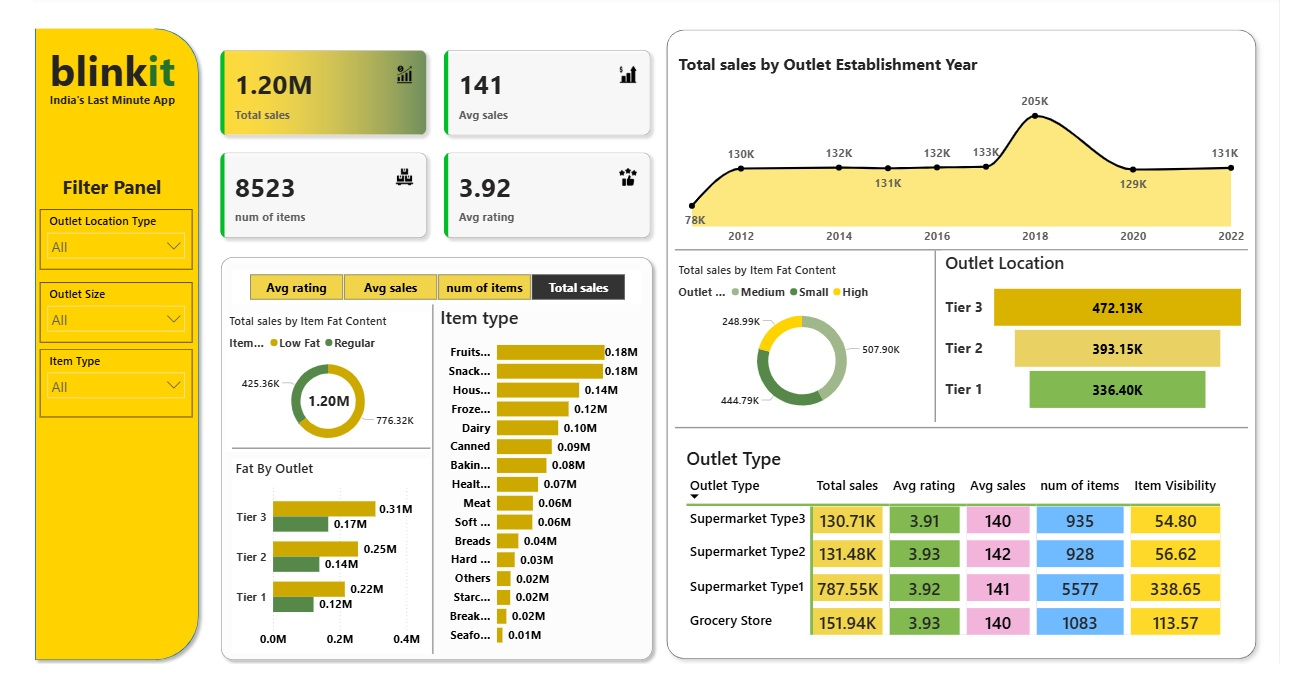

The page's visual inventory and layout, read from the dashboard file:
{"tool":"powerbi","page":{"name":"Page 1","canvas":[1800,950],"ordinal":0},"visuals":[{"type":"shape","box":[33.7,38.1,249.1,911],"z":0},{"type":"textbox","box":[58.3,60.6,199.7,98.7],"z":1000},{"type":"textbox","box":[58.3,132.4,262.5,51.6],"z":2000},{"type":"actionButton","box":[0,0,100,40],"z":3000},{"type":"cardVisual","fields":{"Data":["BlinkIT Grocery Data.Total sales","BlinkIT Grocery Data.Avg sales","BlinkIT Grocery Data.num of items","BlinkIT Grocery Data.Avg rating"]},"box":[287.2,60.6,644,300.7],"z":4000},{"type":"shape","box":[296.2,361.3,628.3,587.9],"z":5000},{"type":"donutChart","fields":{"Category":["BlinkIT Grocery Data.Item Fat Content"],"Y":["Metric Selector.Selected Metric Value"]},"box":[311.9,448.8,289.4,197.5],"z":6000},{"type":"slicer","fields":{"Values":["Metric Selector.Metric"]},"box":[320.9,388.2,578.9,49.4],"z":7000},{"type":"card","fields":{"Values":["Metric Selector.Selected Metric Value"]},"box":[415.1,554.2,85.3,42.6],"z":8000},{"type":"clusteredBarChart","title":"Fat By Outlet","fields":{"Y":["Metric Selector.Selected Metric Value"],"Category":["BlinkIT Grocery Data.Outlet Location Type"],"Series":["BlinkIT Grocery Data.Item Fat Content"]},"box":[320.9,655.2,280.5,276],"z":9000},{"type":"shape","box":[320.9,626,280.5,29.2],"z":10000},{"type":"shape","box":[583.4,437.5,42.6,493.6],"z":11000},{"type":"barChart","title":"Item type","fields":{"Category":["BlinkIT Grocery Data.Item Type"],"Y":["Metric Selector.Selected Metric Value"]},"box":[610.3,437.5,289.4,493.6],"z":12000},{"type":"shape","box":[924.4,38.1,854.9,911],"z":13000},{"type":"lineChart","fields":{"Y":["BlinkIT Grocery Data.Total sales"],"Category":["BlinkIT Grocery Data.Outlet Establishment Year"]},"box":[946.9,80.8,810,280.5],"z":14000},{"type":"shape","box":[946.9,345.5,810,29.2],"z":15000},{"type":"donutChart","fields":{"Category":["BlinkIT Grocery Data.Outlet Size"],"Y":["BlinkIT Grocery Data.Total sales"]},"box":[946.9,377,359,226.6],"z":16000},{"type":"shape","box":[1305.9,361.3,18,242.3],"z":17000},{"type":"funnel","title":"Outlet Location ","fields":{"Y":["Sum(BlinkIT Grocery Data.Sales)"],"Category":["BlinkIT Grocery Data.Outlet Location Type"]},"box":[1323.8,361.3,433.1,242.3],"z":18000},{"type":"shape","box":[946.9,596.8,810,29.2],"z":19000},{"type":"pivotTable","title":"Outlet Type","fields":{"Rows":["BlinkIT Grocery Data.Outlet Type"],"Values":["BlinkIT Grocery Data.Total sales","BlinkIT Grocery Data.Avg rating","BlinkIT Grocery Data.Avg sales","BlinkIT Grocery Data.num of items","Sum(BlinkIT Grocery Data.Item Visibility)"]},"box":[958.1,637.2,789.8,278.2],"z":20000},{"type":"slicer","fields":{"Values":["BlinkIT Grocery Data.Outlet Location Type"]},"box":[49.4,302.9,215.4,85.3],"z":21000},{"type":"slicer","fields":{"Values":["BlinkIT Grocery Data.Outlet Size"]},"box":[49.4,406.1,215.4,85.3],"z":22000},{"type":"slicer","fields":{"Values":["BlinkIT Grocery Data.Item Type"]},"box":[49.4,500.4,215.4,96.5],"z":23000},{"type":"textbox","box":[76.3,246.8,163.8,56.1],"z":24000}]}

Visuals, with their boxes in screenshot pixels (x1, y1, x2, y2), scaled from the page's 1800x950 canvas onto the 1299x683 screenshot:
shape: bbox=[24, 27, 204, 682]
textbox: bbox=[42, 44, 186, 115]
textbox: bbox=[42, 95, 232, 132]
actionButton: bbox=[0, 0, 72, 29]
cardVisual - BlinkIT Grocery Data.Total sales x BlinkIT Grocery Data.Avg sales: bbox=[207, 44, 672, 260]
shape: bbox=[214, 260, 667, 682]
donutChart - BlinkIT Grocery Data.Item Fat Content x Metric Selector.Selected Metric Value: bbox=[225, 323, 434, 465]
slicer - Metric Selector.Metric: bbox=[232, 279, 649, 315]
card - Metric Selector.Selected Metric Value: bbox=[300, 398, 361, 429]
"Fat By Outlet" clusteredBarChart: bbox=[232, 471, 434, 669]
shape: bbox=[232, 450, 434, 471]
shape: bbox=[421, 315, 452, 669]
"Item type" barChart: bbox=[440, 315, 649, 669]
shape: bbox=[667, 27, 1284, 682]
lineChart - BlinkIT Grocery Data.Total sales x BlinkIT Grocery Data.Outlet Establishment Year: bbox=[683, 58, 1268, 260]
shape: bbox=[683, 248, 1268, 269]
donutChart - BlinkIT Grocery Data.Outlet Size x BlinkIT Grocery Data.Total sales: bbox=[683, 271, 942, 434]
shape: bbox=[942, 260, 955, 434]
"Outlet Location " funnel: bbox=[955, 260, 1268, 434]
shape: bbox=[683, 429, 1268, 450]
"Outlet Type" pivotTable: bbox=[691, 458, 1261, 658]
slicer - BlinkIT Grocery Data.Outlet Location Type: bbox=[36, 218, 191, 279]
slicer - BlinkIT Grocery Data.Outlet Size: bbox=[36, 292, 191, 353]
slicer - BlinkIT Grocery Data.Item Type: bbox=[36, 360, 191, 429]
textbox: bbox=[55, 177, 173, 218]
